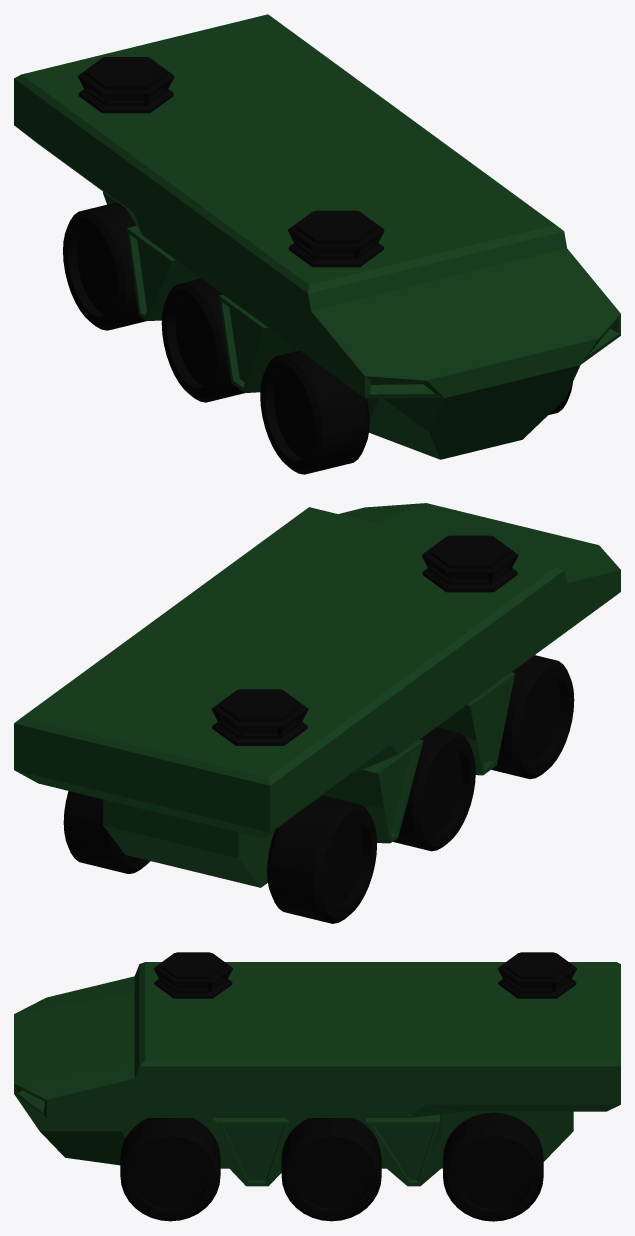
The model's file is BTR-1.fbx.
3 renders of one model, top to bottom at view 1: azimuth 30°, elevation 25°; view 2: azimuth 150°, elevation 25°; view 3: azimuth 270°, elevation 25°, orthographic. The views are drawn at different scales.
Visible parts, largest first — view 1: Cube, Cylinder.002, Cylinder, Cylinder.001, Cylinder.006, Cylinder.007; view 2: Cube, Cylinder, Cylinder.002, Cylinder.001, Cylinder.006, Cylinder.007, Cylinder.003; view 3: Cube, Cylinder.003, Cylinder.005, Cylinder.004, Cylinder.007, Cylinder.006.
Part boxes in pixels (x1=…): Cube: x1=14, y1=14, x2=620, y2=459; Cylinder.002: x1=260, y1=350, x2=369, y2=474; Cylinder: x1=63, y1=202, x2=146, y2=330; Cylinder.001: x1=161, y1=278, x2=244, y2=402; Cylinder.006: x1=288, y1=210, x2=384, y2=267; Cylinder.007: x1=78, y1=57, x2=174, y2=113; Cube: x1=14, y1=503, x2=620, y2=887; Cylinder: x1=267, y1=795, x2=376, y2=923; Cylinder.002: x1=491, y1=655, x2=574, y2=779; Cylinder.001: x1=393, y1=727, x2=475, y2=851; Cylinder.006: x1=422, y1=535, x2=518, y2=592; Cylinder.007: x1=212, y1=689, x2=308, y2=745; Cylinder.003: x1=63, y1=791, x2=150, y2=873; Cube: x1=14, y1=962, x2=620, y2=1186; Cylinder.003: x1=443, y1=1112, x2=543, y2=1221; Cylinder.005: x1=120, y1=1118, x2=220, y2=1221; Cylinder.004: x1=281, y1=1118, x2=381, y2=1221; Cylinder.007: x1=498, y1=952, x2=576, y2=998; Cylinder.006: x1=154, y1=952, x2=232, y2=998.
Bounding box in the file's own units: 397 × 326 × 991.
